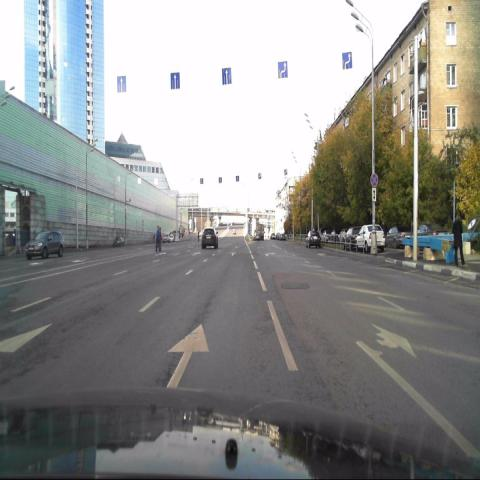5_15_2: (277, 60, 288, 80)
